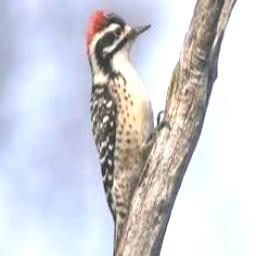Woodpecker: (84, 10, 170, 256)
